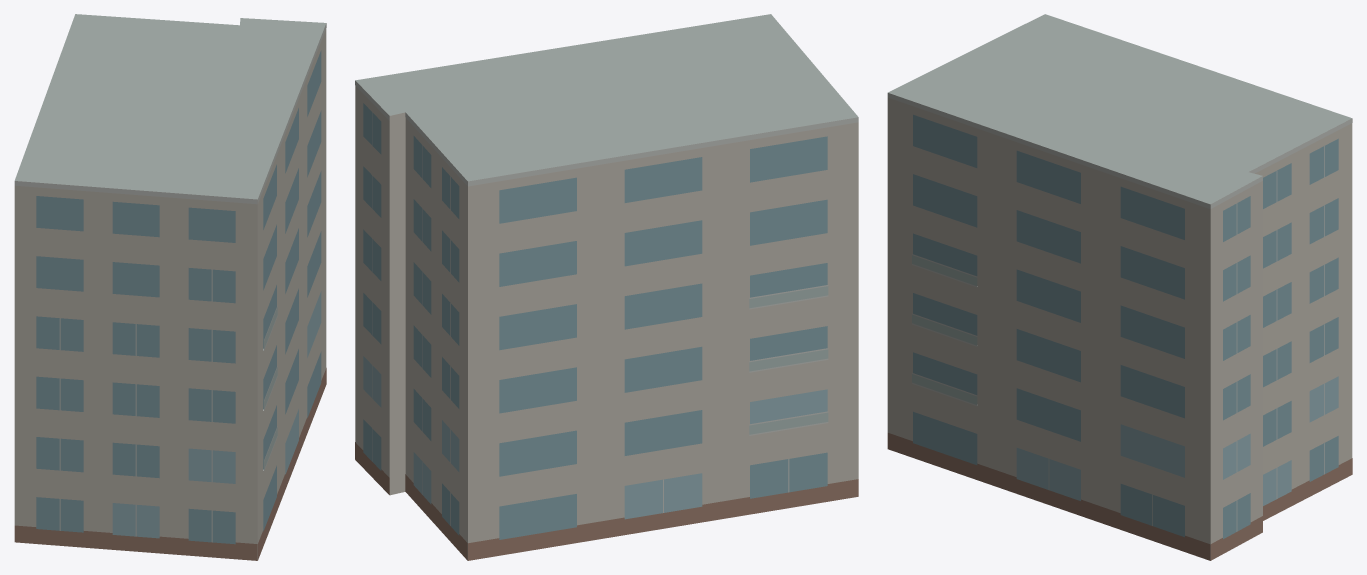
The model's file is survey-upis-33020367.glb.
3 views of the same model, side by side, from view 1: azimuth 30°, elevation 25°; view 2: azimuth 150°, elevation 25°; view 3: azimuth 270°, elevation 25° (orthographic). The views are drawn at different scales.
Visible parts, largest first — view 1: survey-upis-33020367.tmp; view 2: survey-upis-33020367.tmp; view 3: survey-upis-33020367.tmp.
Part boxes in pixels (left/top/right/bottom): survey-upis-33020367.tmp: left=14, top=14, right=326, bottom=560; survey-upis-33020367.tmp: left=355, top=14, right=858, bottom=560; survey-upis-33020367.tmp: left=887, top=14, right=1352, bottom=560.
Size of the model in its own units: 20.98 by 18.3 by 21.64.
